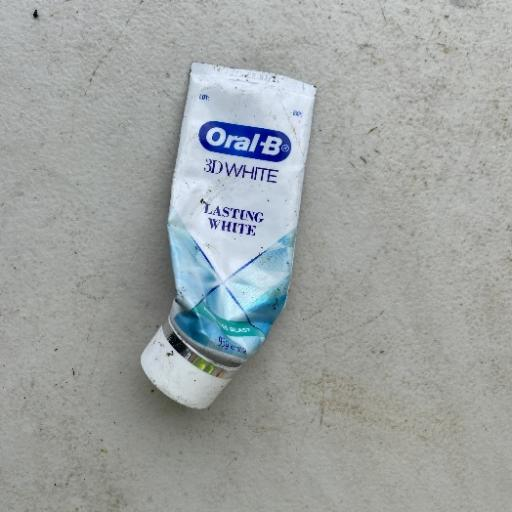Plastic: (138, 60, 318, 410)
